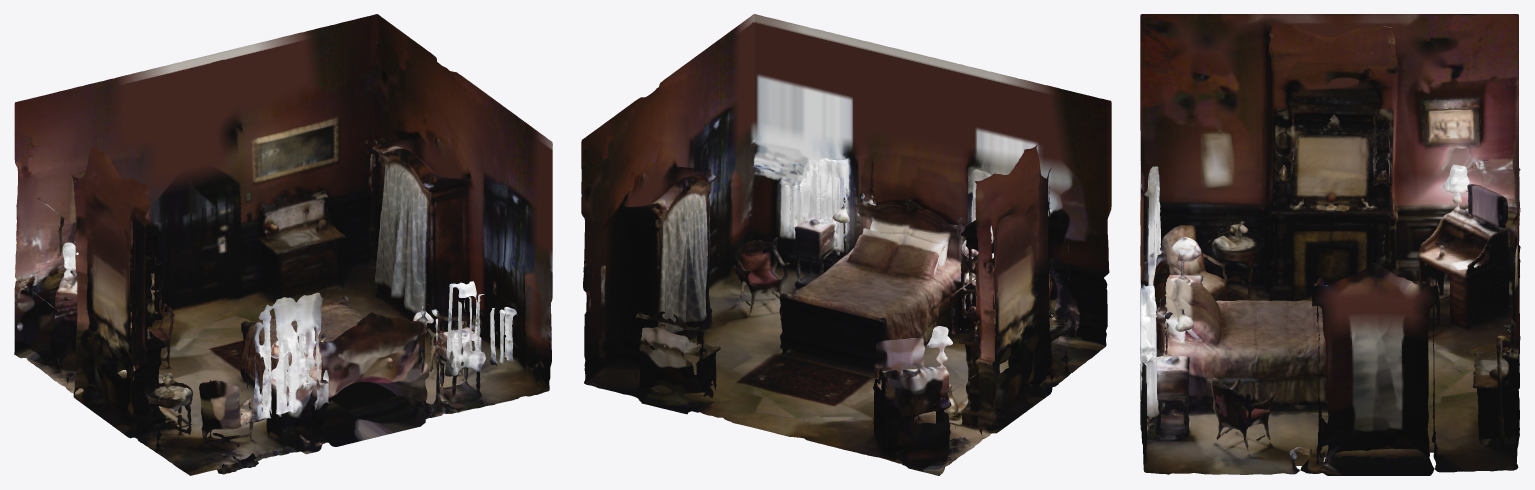
Rendered from bedroom-full.glb.
The picture shows the model from 3 angles, left to right: view 1: azimuth 30°, elevation 25°; view 2: azimuth 150°, elevation 25°; view 3: azimuth 270°, elevation 25°; orthographic projection. The views are drawn at different scales.
Visible parts, largest first — view 1: Redwood Bedroom; view 2: Redwood Bedroom; view 3: Redwood Bedroom.
Part boxes in pixels (box(x1,y1,x2,y2)): Redwood Bedroom: box(14, 14, 552, 475); Redwood Bedroom: box(581, 14, 1111, 475); Redwood Bedroom: box(1140, 14, 1520, 475).
Size of the model in its own units: 5.67 by 3.81 by 4.75.
Materials: 1 (1 with a texture image).
